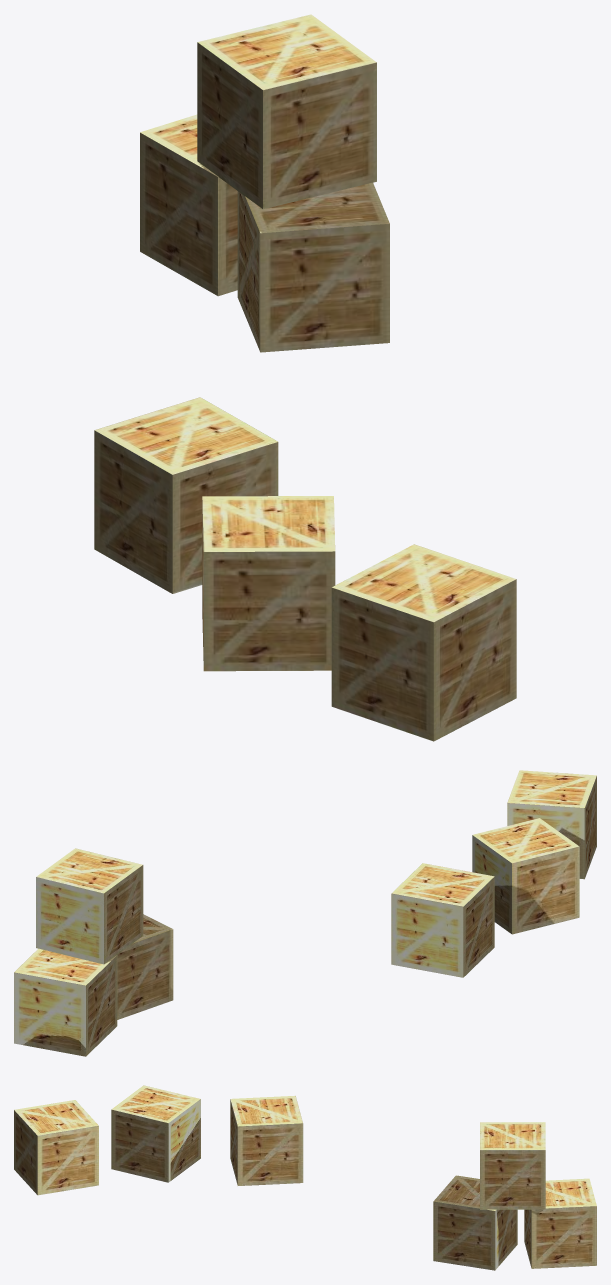
File: Boxes.fbx
3 renders of one model, top to bottom at view 1: azimuth 30°, elevation 25°; view 2: azimuth 150°, elevation 25°; view 3: azimuth 270°, elevation 25°, orthographic. The views are drawn at different scales.
Visible parts, largest first — view 1: Com_Caixas_00; view 2: Com_Caixas_00; view 3: Com_Caixas_00.
Boxes of the visible parts, left/top/right/bottom form: Com_Caixas_00: left=94, top=14, right=516, bottom=741; Com_Caixas_00: left=14, top=770, right=596, bottom=1056; Com_Caixas_00: left=14, top=1085, right=596, bottom=1270.
Size of the model in its own units: 4.3 by 1.9 by 8.42.
